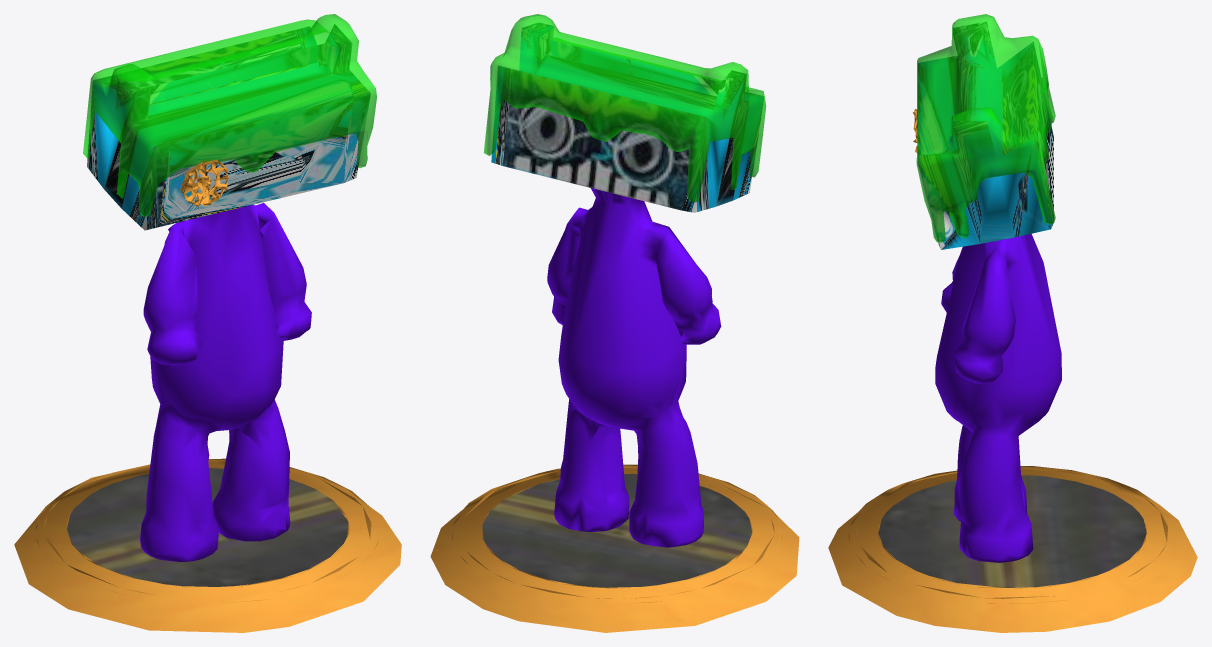
3 renders of one model, left to right at view 1: azimuth 30°, elevation 25°; view 2: azimuth 150°, elevation 25°; view 3: azimuth 270°, elevation 25°, orthographic. The views are drawn at different scales.
Size of the model in its own units: 1.44 by 2.13 by 1.44.
Materials: 5 (3 with a texture image).
